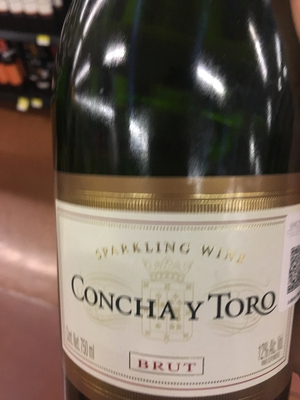brut: (55, 11, 297, 400)
